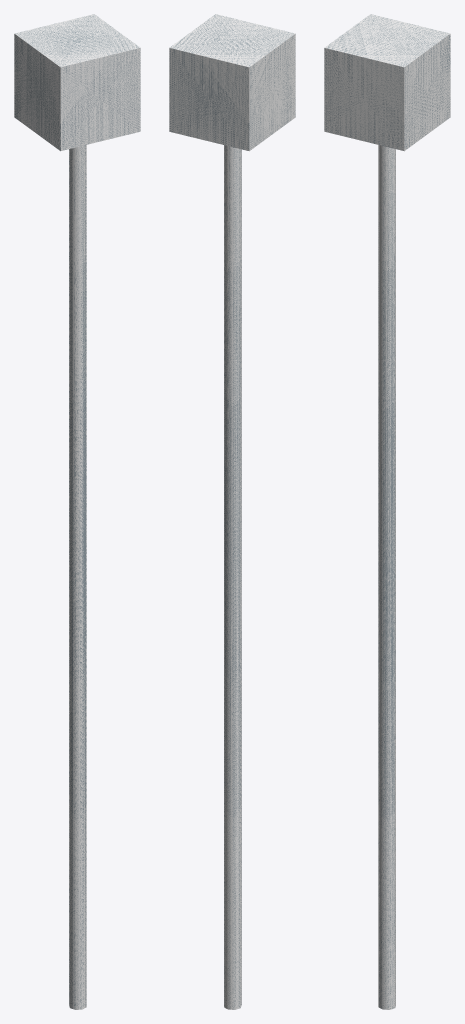
Rendered from scale.fbx.
The picture shows the model from 3 angles, left to right: view 1: azimuth 30°, elevation 25°; view 2: azimuth 150°, elevation 25°; view 3: azimuth 330°, elevation 25°; orthographic projection.
Parts seen in each view (by area): view 1: Model; view 2: Model; view 3: Model.
Part boxes in pixels (box(x1,y1,x2,y2)): Model: box(14, 14, 140, 1009); Model: box(169, 14, 295, 1009); Model: box(324, 14, 450, 1009).
Bounding box in the file's own units: 21.58 × 249 × 21.58.
